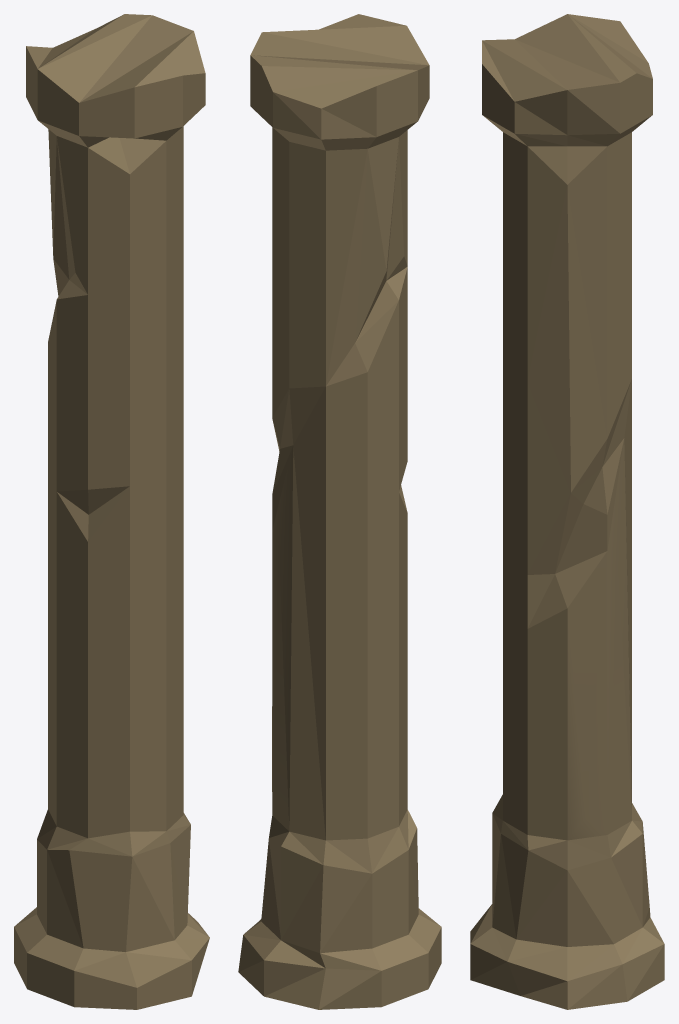
File: Column_2_low.fbx
The picture shows the model from 3 angles, left to right: view 1: azimuth 30°, elevation 25°; view 2: azimuth 150°, elevation 25°; view 3: azimuth 270°, elevation 25°; orthographic projection.
Parts seen in each view (by area): view 1: Column_2_low; view 2: Column_2_low; view 3: Column_2_low.
Boxes of the visible parts, x1,y1,x2,y2 form: Column_2_low: (14,14,209,1009); Column_2_low: (238,14,441,1009); Column_2_low: (470,14,664,1009).
Size of the model in its own units: 0.4225 by 2.09 by 0.4018.
